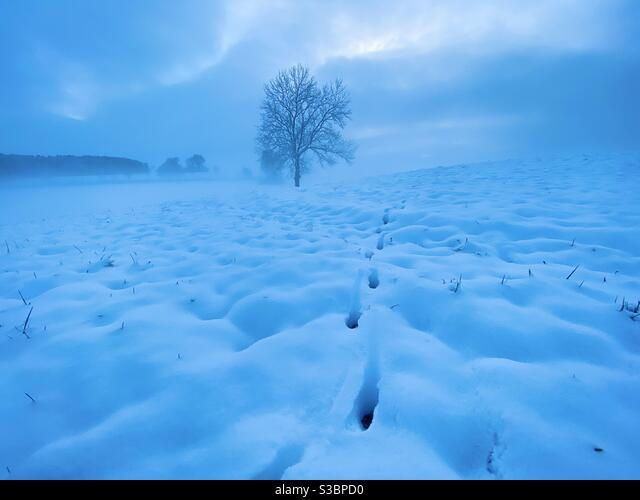fox: (354, 397, 381, 433), (344, 308, 368, 331)
